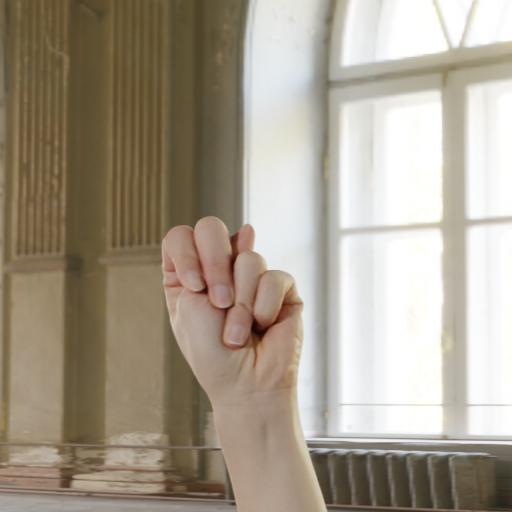N: (134, 184, 324, 405)
